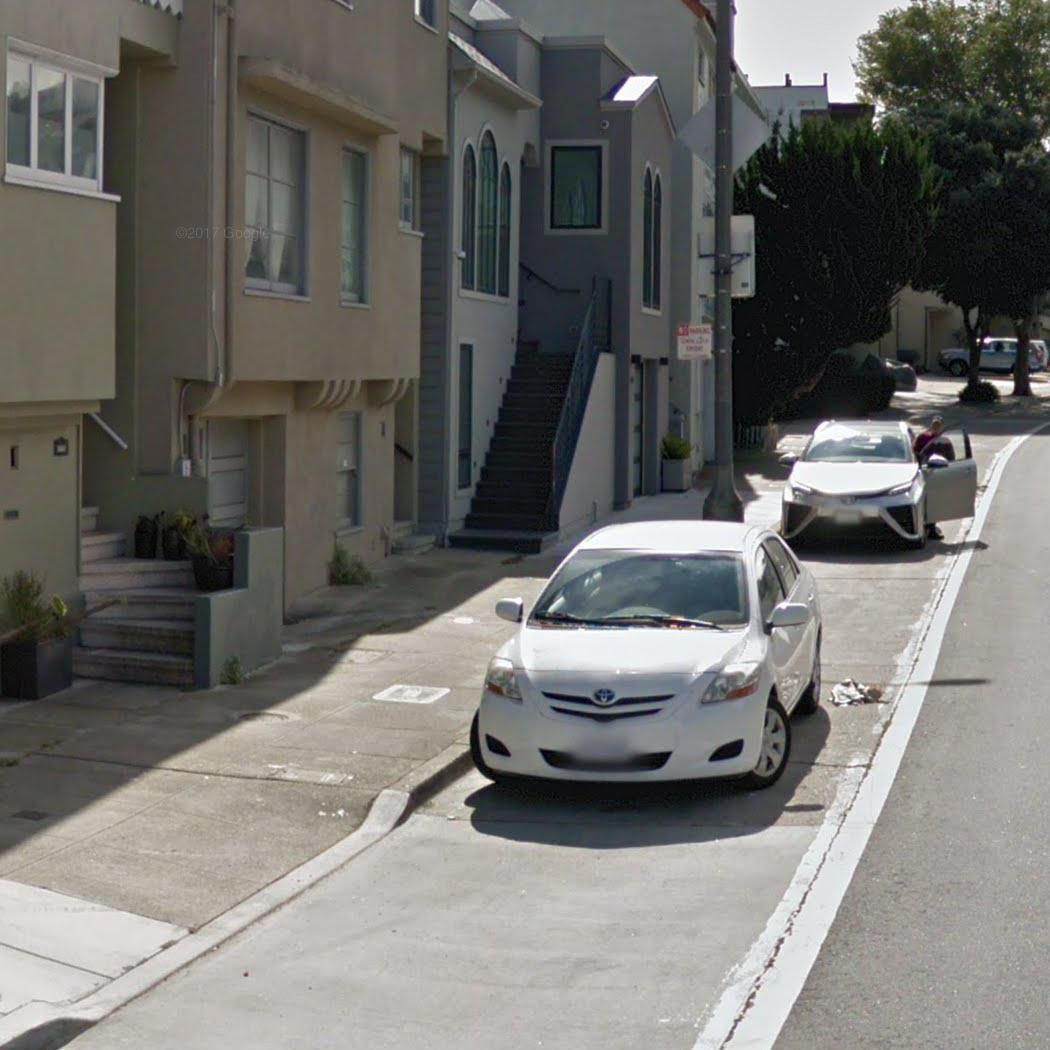No Parking Anytime: (669, 316, 719, 365)
